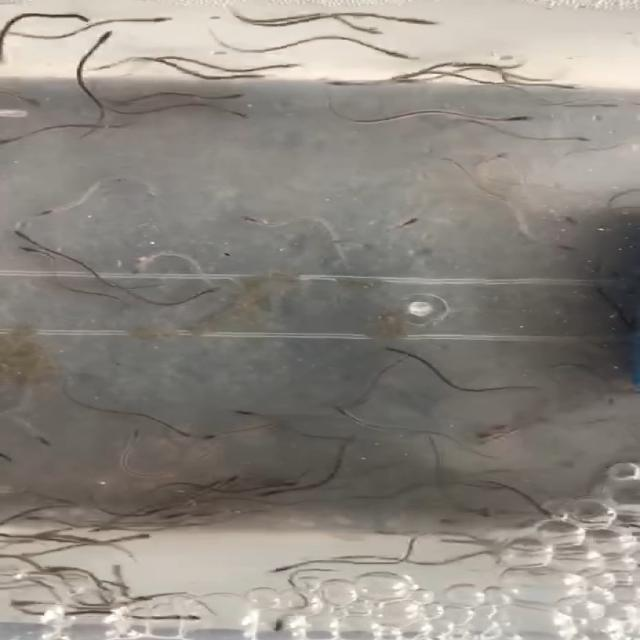active_glass_eel: (469, 424, 522, 444), (23, 200, 64, 225), (262, 560, 312, 579), (32, 490, 83, 508), (403, 10, 442, 33), (30, 430, 67, 454), (110, 425, 163, 441), (466, 151, 516, 167), (272, 57, 308, 79), (218, 85, 255, 106), (246, 490, 316, 501), (260, 616, 298, 636), (458, 504, 505, 520), (396, 211, 426, 236), (425, 339, 469, 356), (166, 608, 207, 626), (193, 429, 225, 452), (18, 544, 58, 562), (431, 534, 482, 548), (345, 21, 389, 37), (29, 563, 66, 582), (501, 110, 537, 129), (0, 134, 38, 152), (374, 50, 422, 64), (90, 27, 127, 45), (144, 12, 180, 30), (230, 404, 266, 422), (124, 530, 159, 548), (324, 74, 362, 90), (380, 344, 417, 360), (326, 402, 362, 418), (142, 501, 174, 519), (229, 109, 262, 126), (535, 82, 586, 93), (536, 506, 568, 523), (128, 592, 162, 608), (0, 228, 30, 246), (390, 74, 425, 88), (550, 208, 590, 220), (277, 477, 307, 493), (22, 511, 52, 527), (123, 264, 154, 279), (234, 212, 263, 228), (66, 12, 96, 27), (552, 235, 576, 253), (234, 71, 270, 83), (20, 96, 45, 112), (550, 132, 574, 148), (210, 476, 238, 488), (81, 526, 109, 538), (20, 246, 45, 258), (163, 512, 184, 525)
